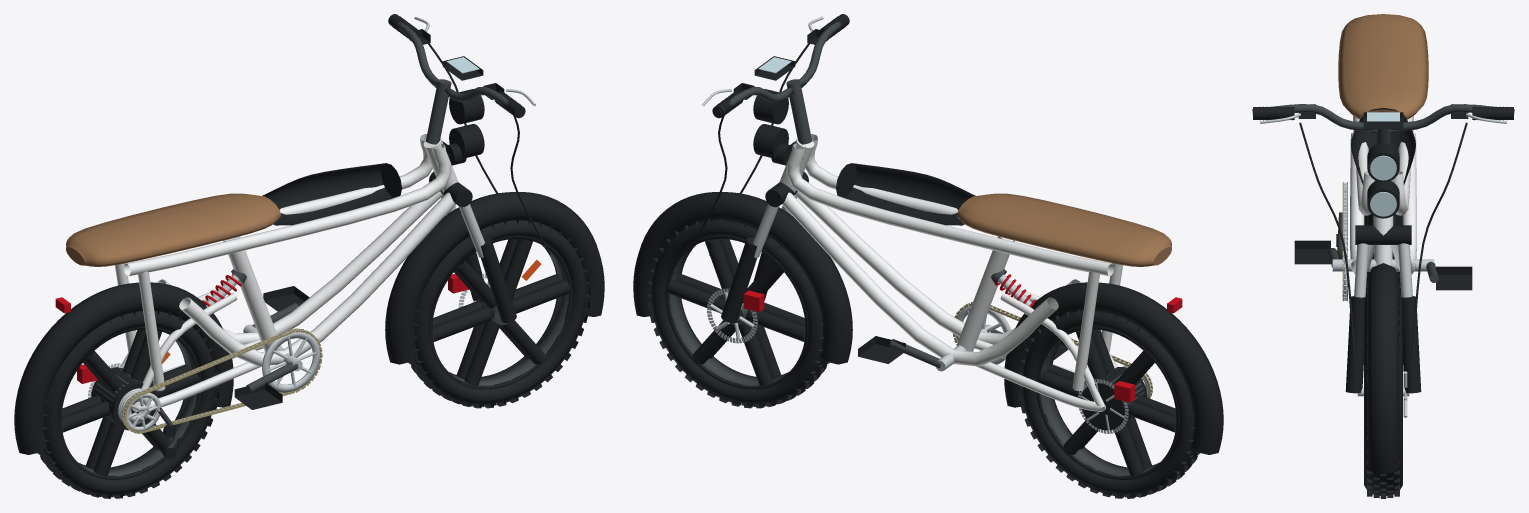
The model's file is engwe-m20.glb.
The picture shows the model from 3 angles, left to right: view 1: azimuth 30°, elevation 25°; view 2: azimuth 150°, elevation 25°; view 3: azimuth 270°, elevation 25°; orthographic projection. The views are drawn at different scales.
Parts seen in each view (by area): view 1: Bodywork | black, Chassis | white, Bodywork | seat, FrontWheel | rubber, FrontWheel | black, RearWheel | rubber, RearWheel | black, BatteryMount | black, Drive | steel, Cockpit | graphite, Fork | black, Drive | black (+8 smaller); view 2: Chassis | white, Bodywork | black, Bodywork | seat, FrontWheel | rubber, RearWheel | rubber, FrontWheel | black, RearWheel | black, BatteryMount | black, Cockpit | graphite, Fork | black, FrontWheel | graphite, RearWheel | graphite (+8 smaller); view 3: Bodywork | seat, Bodywork | black, Chassis | white, Fork | black, FrontWheel | rubber, Cockpit | rubber, Drive | black, Cockpit | graphite, Fork | steel, BatteryMount | black, Bodywork | lens, Cockpit | black (+4 smaller).
Part boxes in pixels (left/top/right/bottom): Bodywork | black: left=14, top=89, right=604, bottom=454; Chassis | white: left=115, top=134, right=458, bottom=411; Bodywork | seat: left=66, top=193, right=281, bottom=266; FrontWheel | rubber: left=408, top=218, right=590, bottom=408; FrontWheel | black: left=430, top=236, right=572, bottom=389; RearWheel | rubber: left=37, top=309, right=219, bottom=498; RearWheel | black: left=59, top=327, right=201, bottom=479; BatteryMount | black: left=262, top=163, right=401, bottom=225; Drive | steel: left=118, top=324, right=320, bottom=431; Cockpit | graphite: left=396, top=22, right=519, bottom=144; Fork | black: left=429, top=171, right=516, bottom=322; Drive | black: left=163, top=286, right=309, bottom=459; Chassis | white: left=779, top=134, right=1122, bottom=411; Bodywork | black: left=633, top=89, right=1223, bottom=454; Bodywork | seat: left=956, top=193, right=1171, bottom=266; FrontWheel | rubber: left=647, top=218, right=829, bottom=408; RearWheel | rubber: left=1018, top=309, right=1200, bottom=498; FrontWheel | black: left=665, top=236, right=807, bottom=389; RearWheel | black: left=1036, top=327, right=1178, bottom=479; BatteryMount | black: left=836, top=163, right=975, bottom=225; Cockpit | graphite: left=718, top=22, right=841, bottom=144; Fork | black: left=721, top=171, right=808, bottom=322; FrontWheel | graphite: left=669, top=246, right=788, bottom=385; RearWheel | graphite: left=1040, top=339, right=1158, bottom=476; Bodywork | seat: left=1338, top=14, right=1428, bottom=119; Bodywork | black: left=1367, top=143, right=1399, bottom=474; Chassis | white: left=1350, top=116, right=1416, bottom=274; Fork | black: left=1345, top=225, right=1421, bottom=393; FrontWheel | rubber: left=1364, top=287, right=1402, bottom=498; Cockpit | rubber: left=1253, top=107, right=1513, bottom=356; Drive | black: left=1294, top=234, right=1472, bottom=290; Cockpit | graphite: left=1252, top=104, right=1514, bottom=144; Fork | steel: left=1354, top=243, right=1412, bottom=297; BatteryMount | black: left=1351, top=108, right=1415, bottom=184; Bodywork | lens: left=1370, top=155, right=1396, bottom=216; Cockpit | black: left=1259, top=104, right=1507, bottom=128.
Size of the model in its own units: 1.93 by 1.1 by 0.7231.
